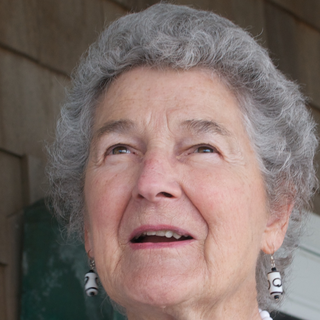eye: (181, 139, 229, 163), (99, 139, 144, 163)
